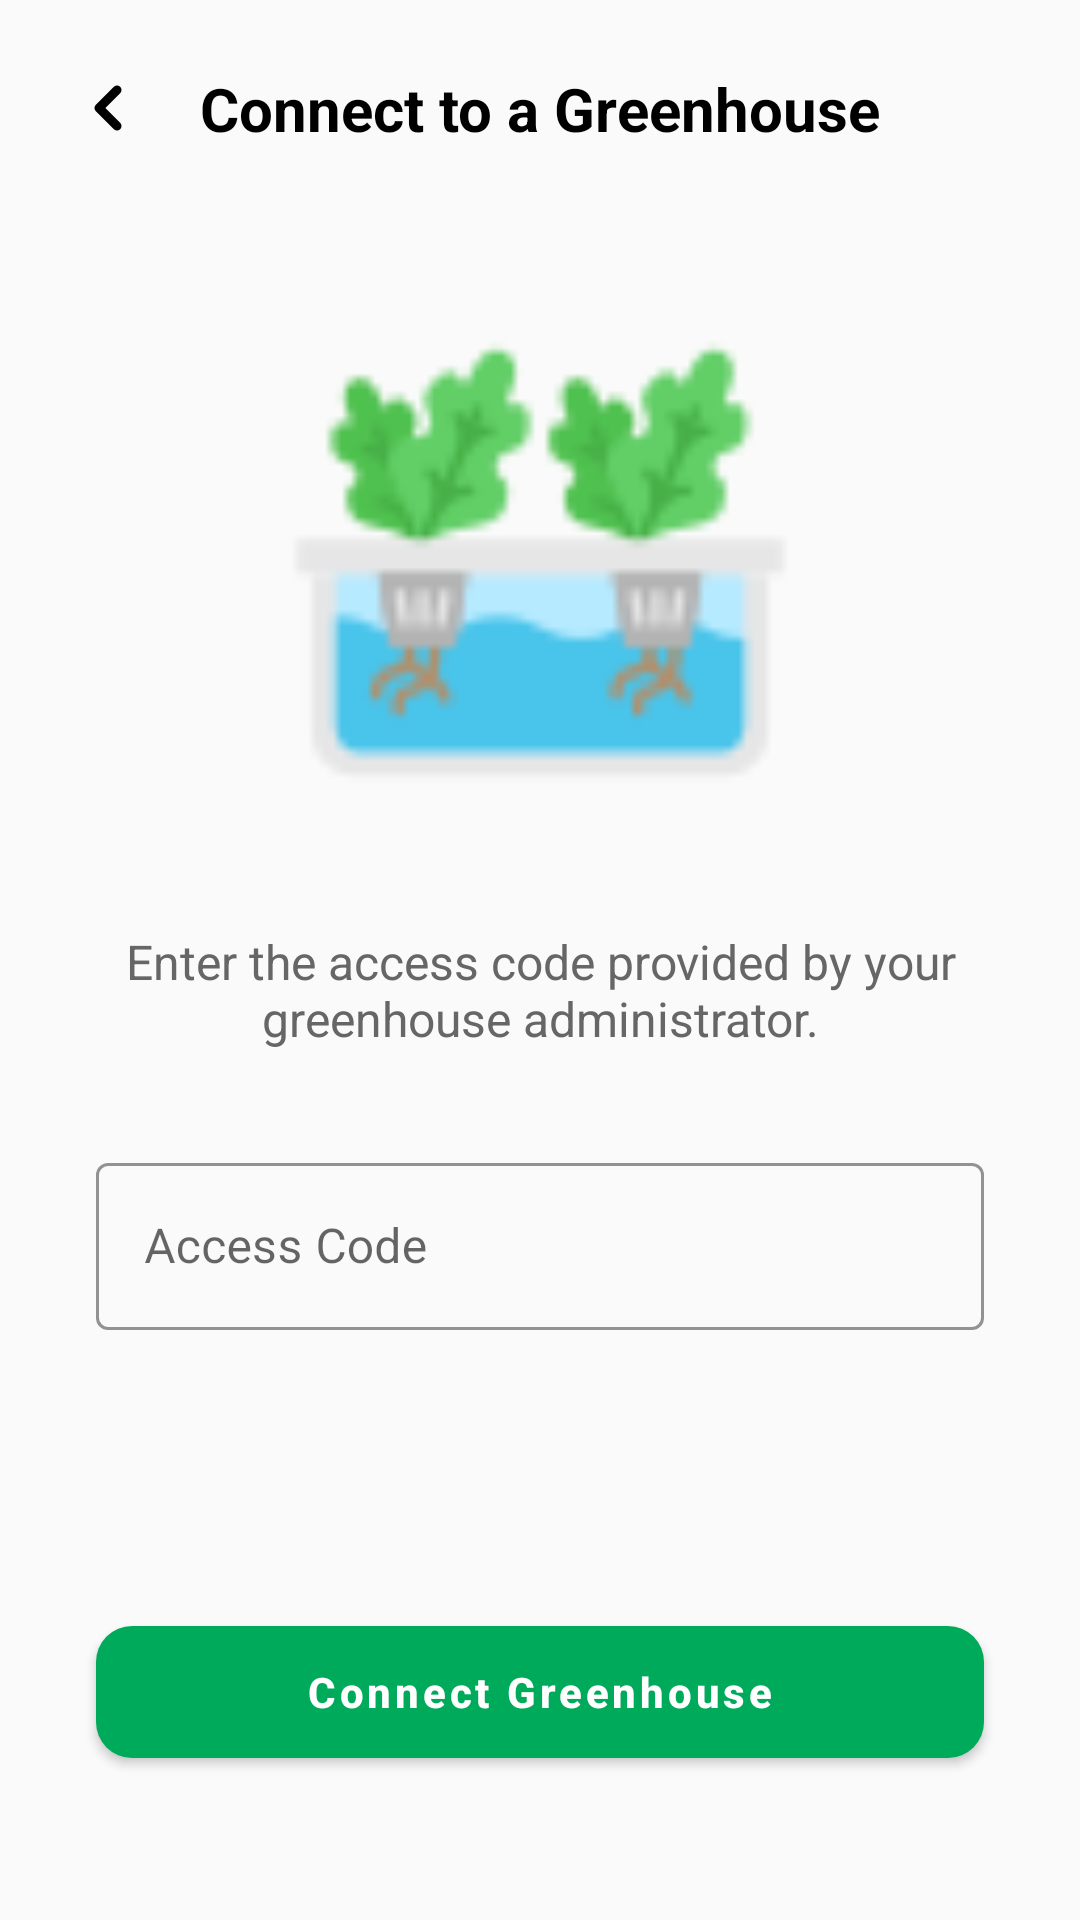

Screen size 1080px x 1920px. Icon name, then its box in pixels as (x1, y1, x2, y2):
lessthan: (94, 85, 122, 131)
